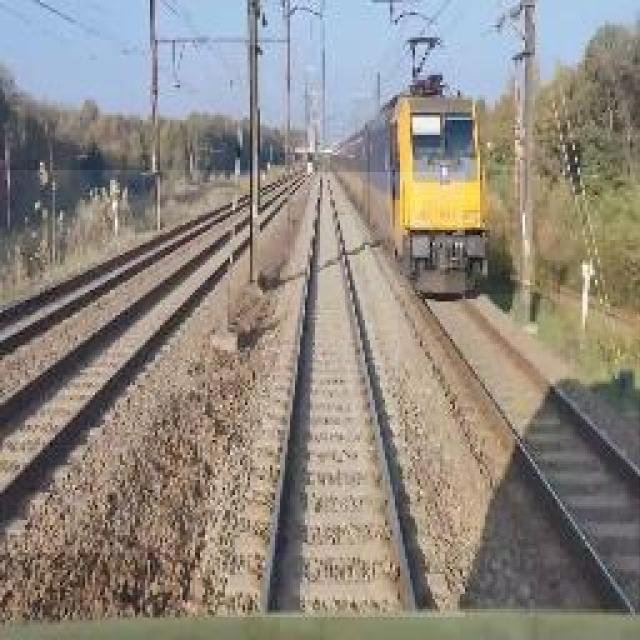rail: (1, 171, 311, 554), (216, 173, 466, 618), (399, 296, 640, 612)
